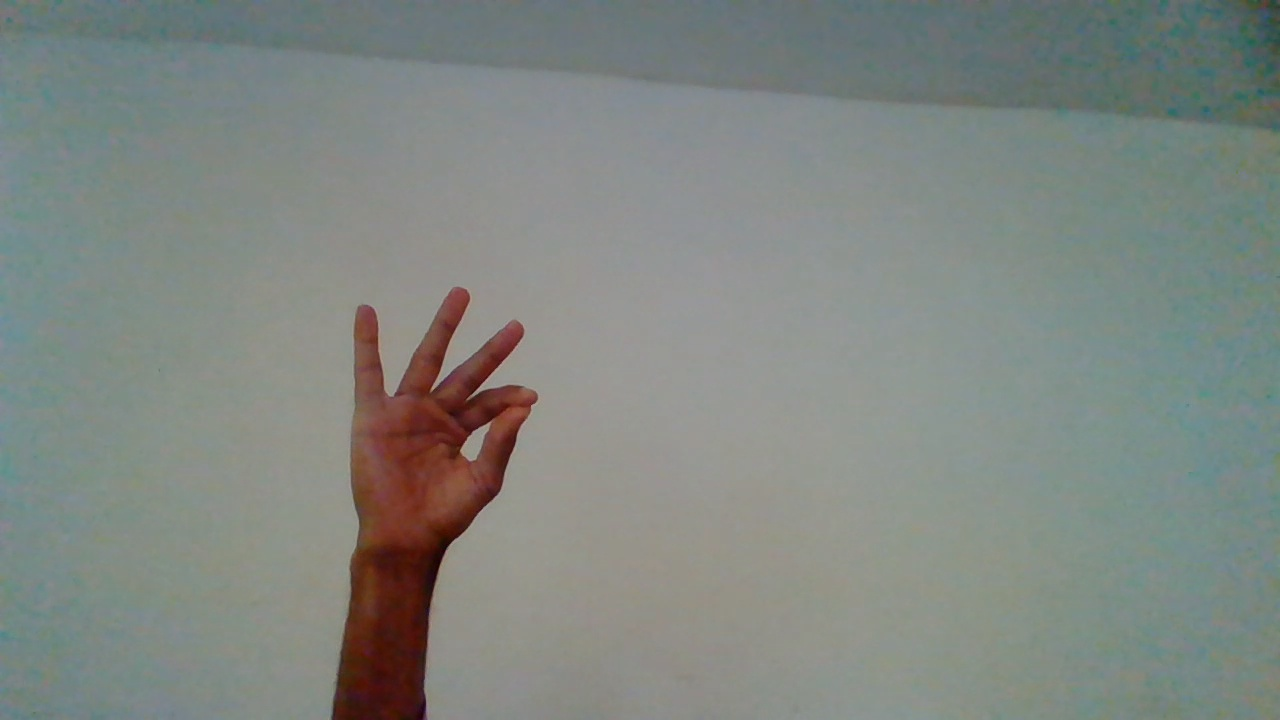le: (344, 289, 548, 704)
